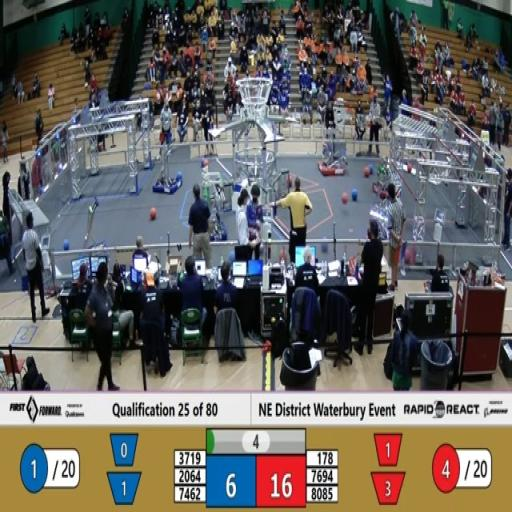robot: (198, 163, 228, 244), (150, 128, 184, 198), (80, 194, 110, 264), (317, 118, 350, 176), (370, 190, 396, 242), (373, 152, 400, 200)
